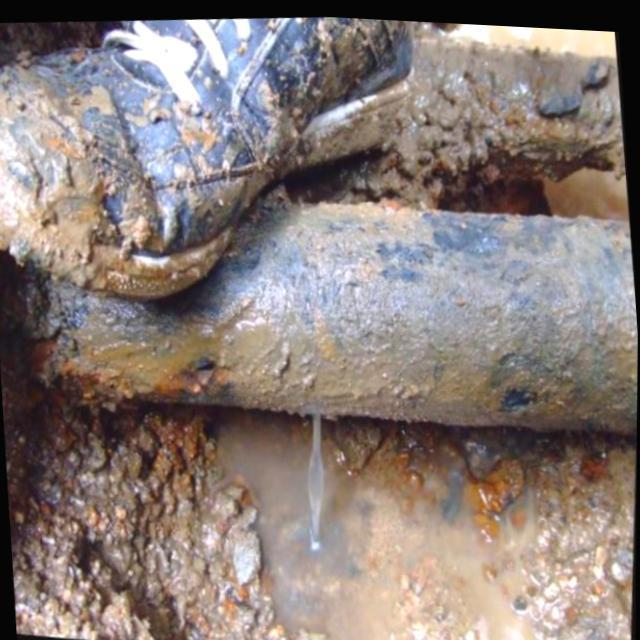pipe burst: (307, 399, 328, 546)
water accumulation: (212, 409, 640, 640), (442, 23, 613, 57), (544, 167, 630, 220)
